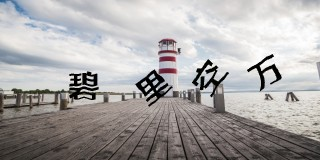万: (246, 53, 282, 90)
碧: (67, 71, 99, 100)
空: (191, 59, 229, 97)
里: (135, 70, 172, 106)
